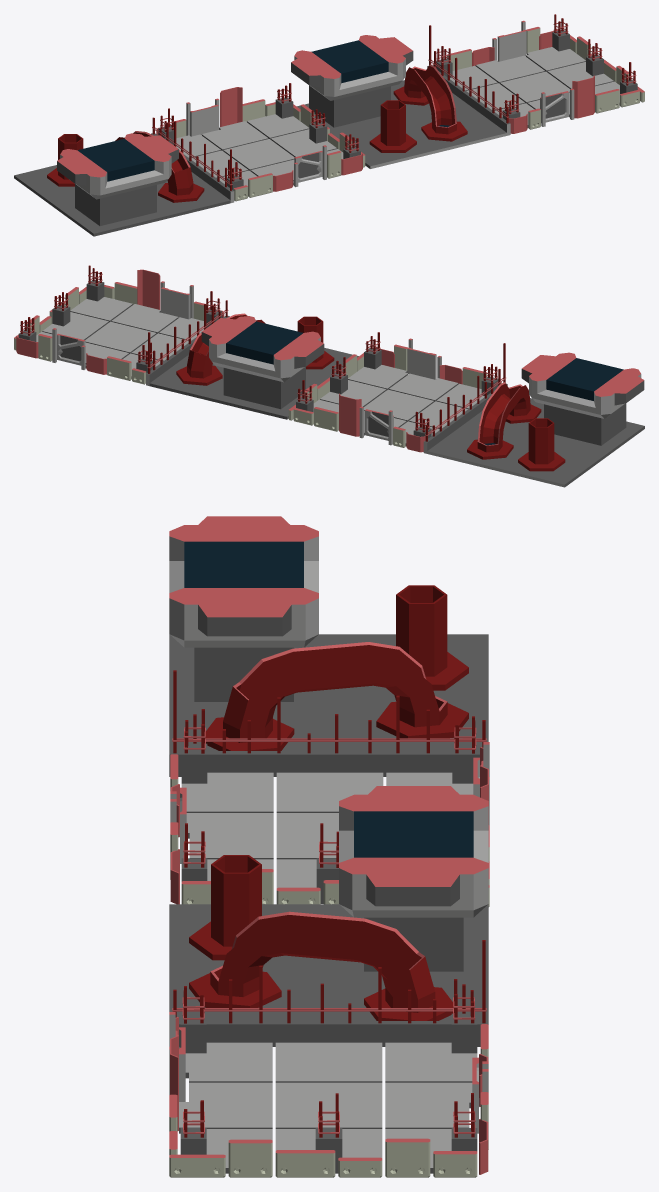
The model's file is Foundations_20x5x5_14_6_2016.fbx.
The picture shows the model from 3 angles, top to bottom: view 1: azimuth 30°, elevation 25°; view 2: azimuth 150°, elevation 25°; view 3: azimuth 270°, elevation 25°; orthographic projection. The views are drawn at different scales.
Visible parts, largest first — view 1: Foundations_20x5x5; view 2: Foundations_20x5x5; view 3: Foundations_20x5x5.
Boxes of the visible parts, x1=… form: Foundations_20x5x5: x1=14, y1=14, x2=644, y2=236; Foundations_20x5x5: x1=14, y1=265, x2=644, y2=487; Foundations_20x5x5: x1=169, y1=516, x2=489, y2=1177.
Size of the model in its own units: 2028 by 199 by 501.
